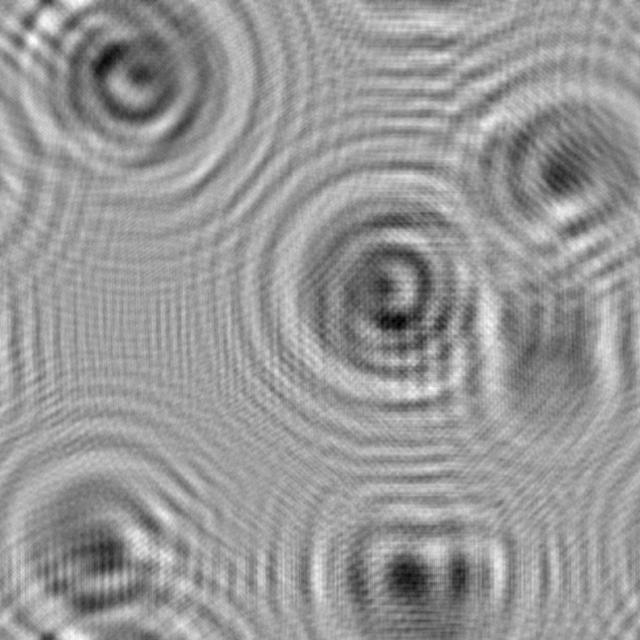F: (276, 460, 543, 640)
G: (246, 154, 533, 429), (0, 0, 264, 212)
I: (454, 221, 640, 456)
J: (423, 24, 640, 290), (0, 410, 230, 640)
